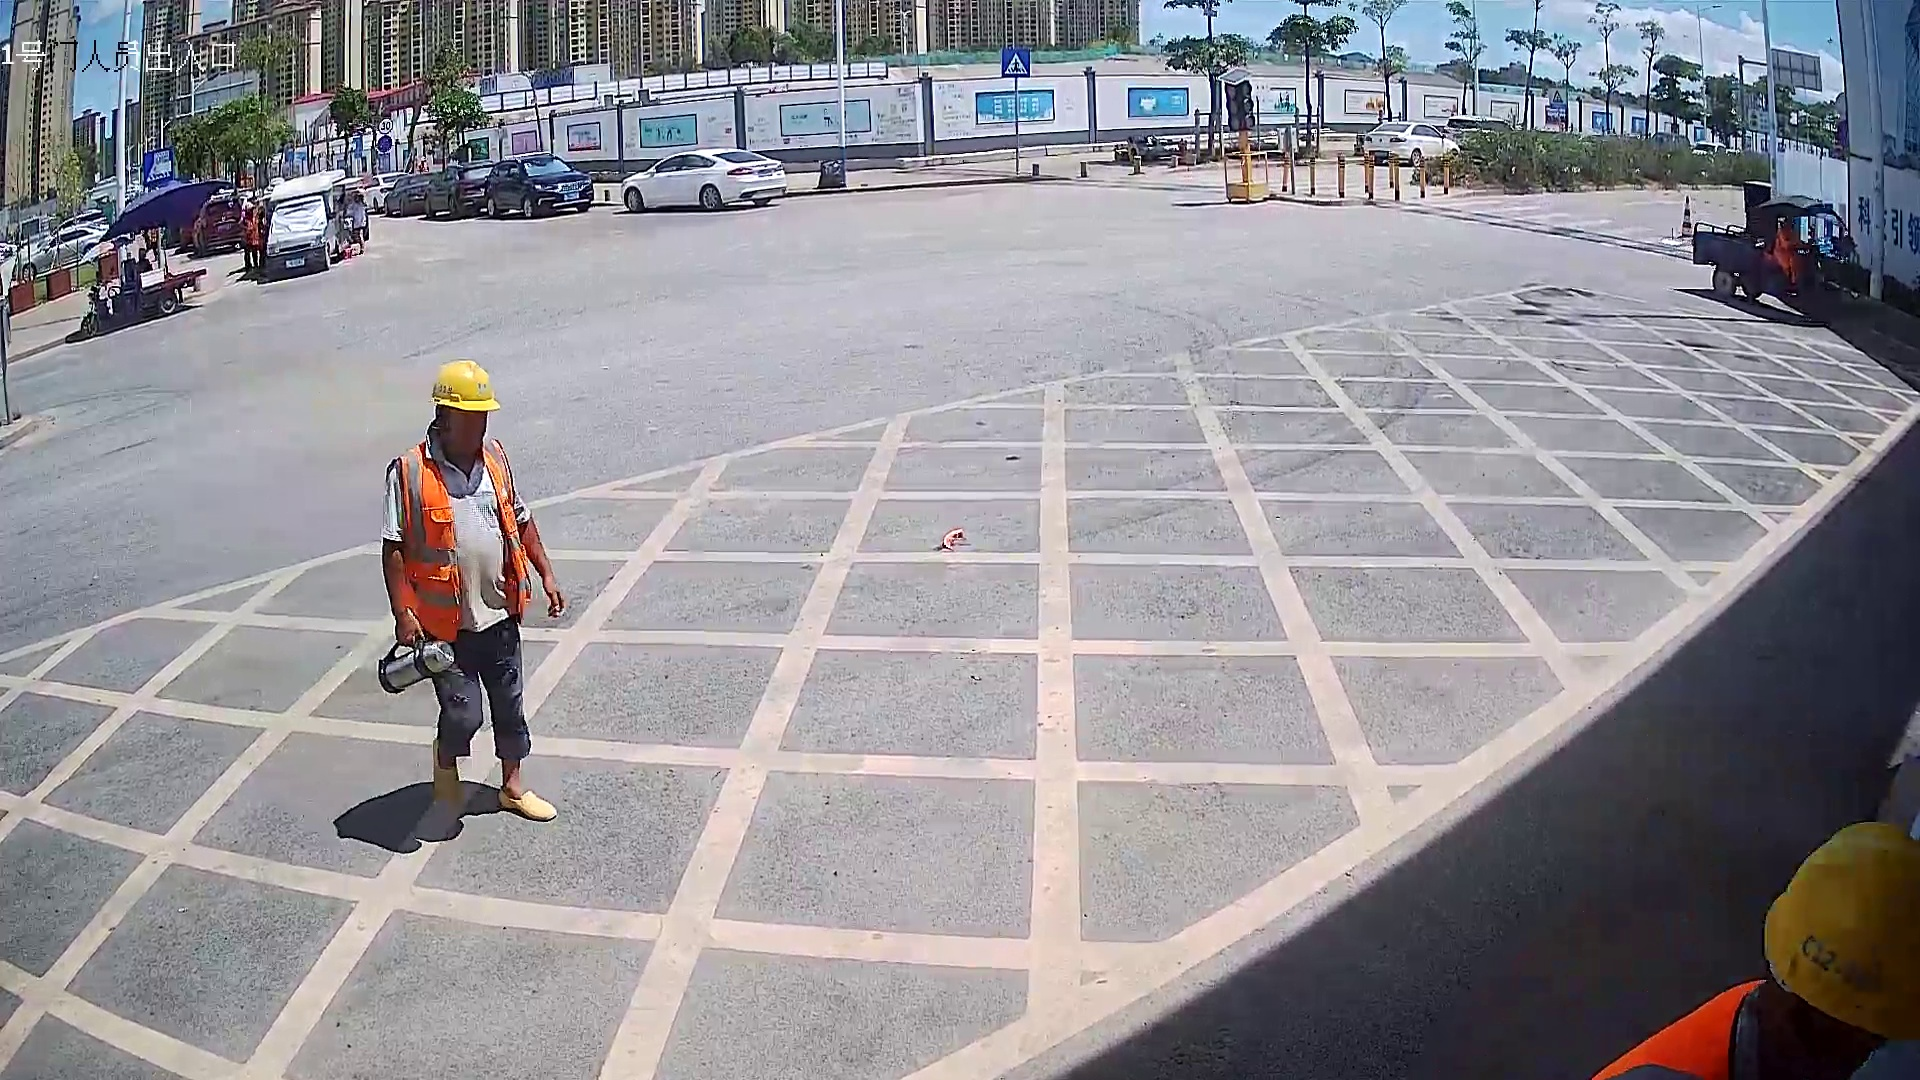person: (377, 358, 569, 828)
reflective_vest: (388, 435, 533, 645)
safety_helmet: (431, 358, 501, 458)
